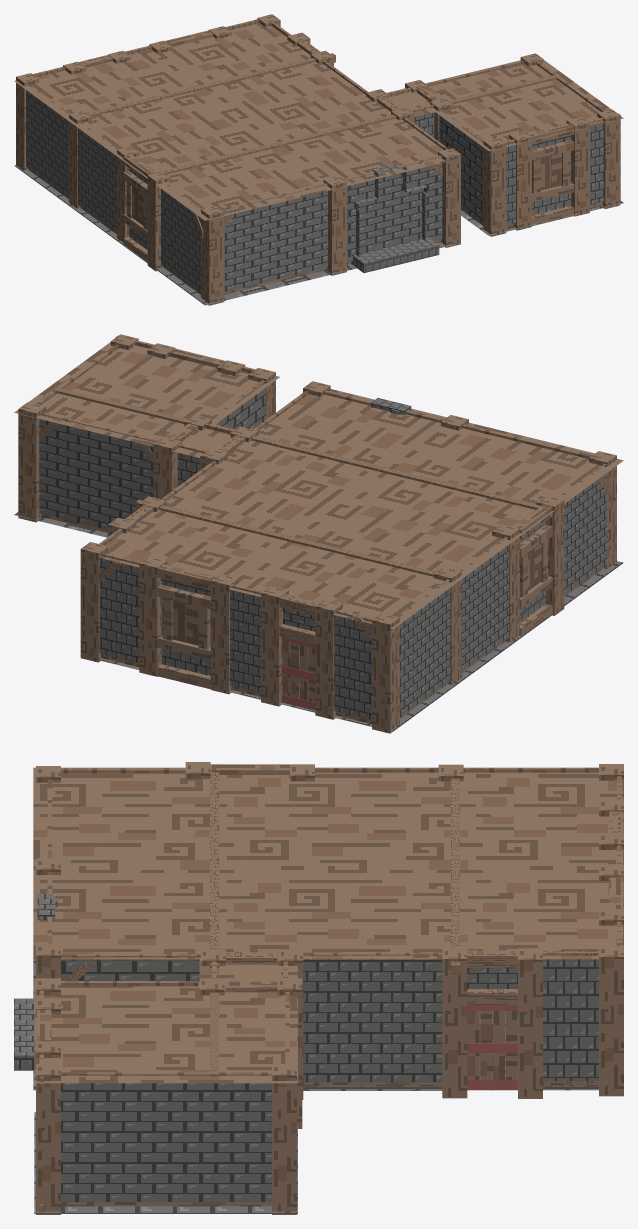
The model's file is Scene2_HouseIterior.glb.
The picture shows the model from 3 angles, top to bottom: view 1: azimuth 30°, elevation 25°; view 2: azimuth 150°, elevation 25°; view 3: azimuth 270°, elevation 25°; orthographic projection. The views are drawn at different scales.
Parts seen in each view (by area): view 1: Techo, Pared.012, Pared.011, Ventana.003, Pared.006, Pared.007, Pared.008, Chimenea, Pared.013, Piso, Pilar.014, Pilar.019 (+17 smaller); view 2: Techo, Pared.015, Ventana, Pared.006, Pared.007, Pared.003, Pared.008, Pared.005, Ventana.002, Pared.004, Pilar.004, Pilar.015 (+20 smaller); view 3: Techo, Pared.014, Pared, Pared.001, Door.001, Pilar.008, Pilar.007, Pilar.011, Pilar.015, Pilar.013, Piso, Pared.009 (+14 smaller).
Part boxes in pixels (x1,y1,x2,y2): Techo: [14, 23, 623, 220]; Pared.012: [221, 183, 327, 294]; Pared.011: [343, 155, 442, 264]; Ventana.003: [528, 123, 574, 226]; Pared.006: [26, 83, 70, 198]; Pared.007: [78, 121, 118, 234]; Pared.008: [161, 181, 201, 294]; Chimenea: [351, 163, 439, 272]; Pared.013: [439, 109, 484, 225]; Piso: [14, 165, 623, 305]; Pilar.014: [483, 137, 506, 236]; Pilar.019: [201, 206, 224, 305]; Techo: [14, 342, 623, 629]; Pared.015: [39, 412, 158, 532]; Ventana: [157, 564, 215, 689]; Pared.006: [397, 579, 450, 718]; Pared.007: [460, 537, 508, 673]; Pared.003: [99, 552, 140, 669]; Pared.008: [557, 463, 606, 596]; Pared.005: [334, 609, 373, 726]; Ventana.002: [513, 504, 552, 635]; Pared.004: [230, 584, 262, 699]; Pilar.004: [372, 613, 399, 733]; Pilar.015: [18, 402, 46, 522]; Techo: [33, 767, 623, 1083]; Pared.014: [61, 1072, 271, 1206]; Pared: [303, 952, 442, 1090]; Pared.001: [543, 951, 598, 1086]; Door.001: [467, 1005, 517, 1089]; Pilar.008: [442, 947, 467, 1098]; Pilar.007: [599, 945, 623, 1096]; Pilar.011: [518, 948, 542, 1098]; Pilar.015: [272, 1064, 296, 1214]; Pilar.013: [36, 1064, 60, 1214]; Piso: [33, 959, 598, 1213]; Pared.009: [61, 954, 200, 981].
Bounding box in the file's own units: 15.17 × 3.12 × 12.39.
13 materials, 11 textured.
